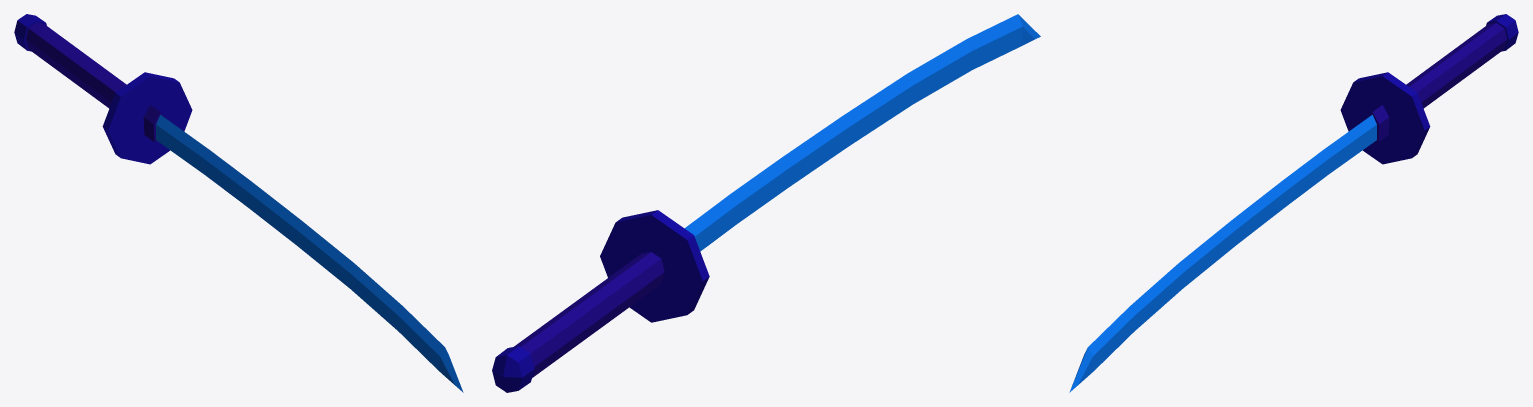
Rendered from Espada.fbx.
The picture shows the model from 3 angles, left to right: view 1: azimuth 30°, elevation 25°; view 2: azimuth 150°, elevation 25°; view 3: azimuth 330°, elevation 25°; orthographic projection. The views are drawn at different scales.
Visible parts, largest first — view 1: Espadinha; view 2: Espadinha; view 3: Espadinha.
Boxes of the visible parts, box(x1,y1,x2,y2) form: Espadinha: box(14, 14, 463, 392); Espadinha: box(492, 14, 1040, 392); Espadinha: box(1069, 14, 1518, 392).
Bounding box in the file's own units: 11.7 × 11.7 × 106.
